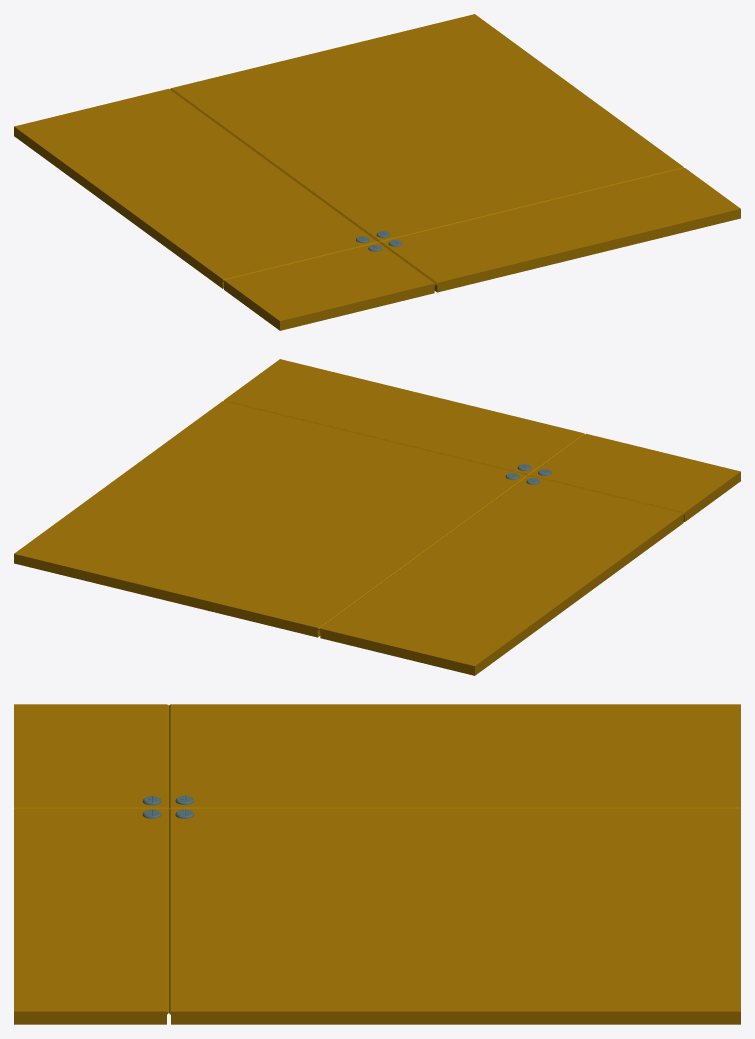
File: MetallicSurface.fbx
3 views of the same model, one above another, from view 1: azimuth 30°, elevation 25°; view 2: azimuth 150°, elevation 25°; view 3: azimuth 270°, elevation 25° (orthographic). The views are drawn at different scales.
Parts seen in each view (by area): view 1: Plane; view 2: Plane; view 3: Plane.
Part boxes in pixels (x1,y1,x2,y2): Plane: (14,14,740,330); Plane: (14,359,740,675); Plane: (14,704,740,1024).
Size of the model in its own units: 200 by 4.6 by 200.
